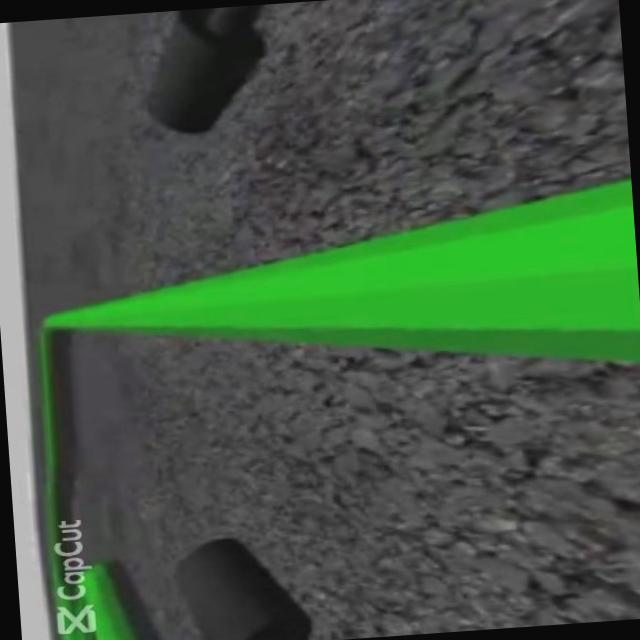gas: (60, 174, 640, 403)
